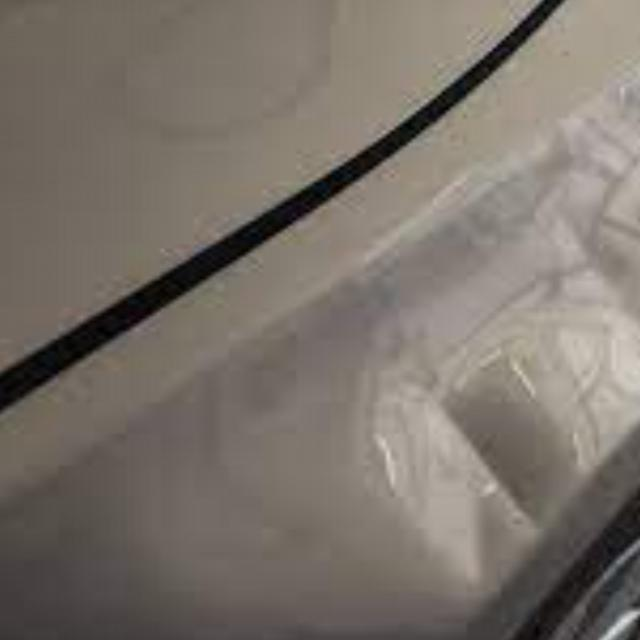dents: (358, 167, 630, 597)
